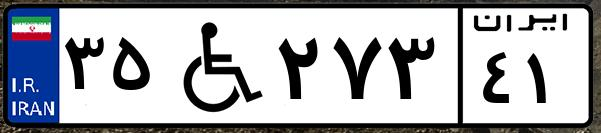1: (525, 38, 570, 115)
2: (270, 28, 330, 110)
3: (385, 28, 445, 110), (57, 26, 110, 100)
4: (475, 38, 525, 113)
5: (110, 28, 158, 98)
7: (330, 28, 385, 110)
ژ (معلولین و جانبازان): (158, 12, 270, 120)
